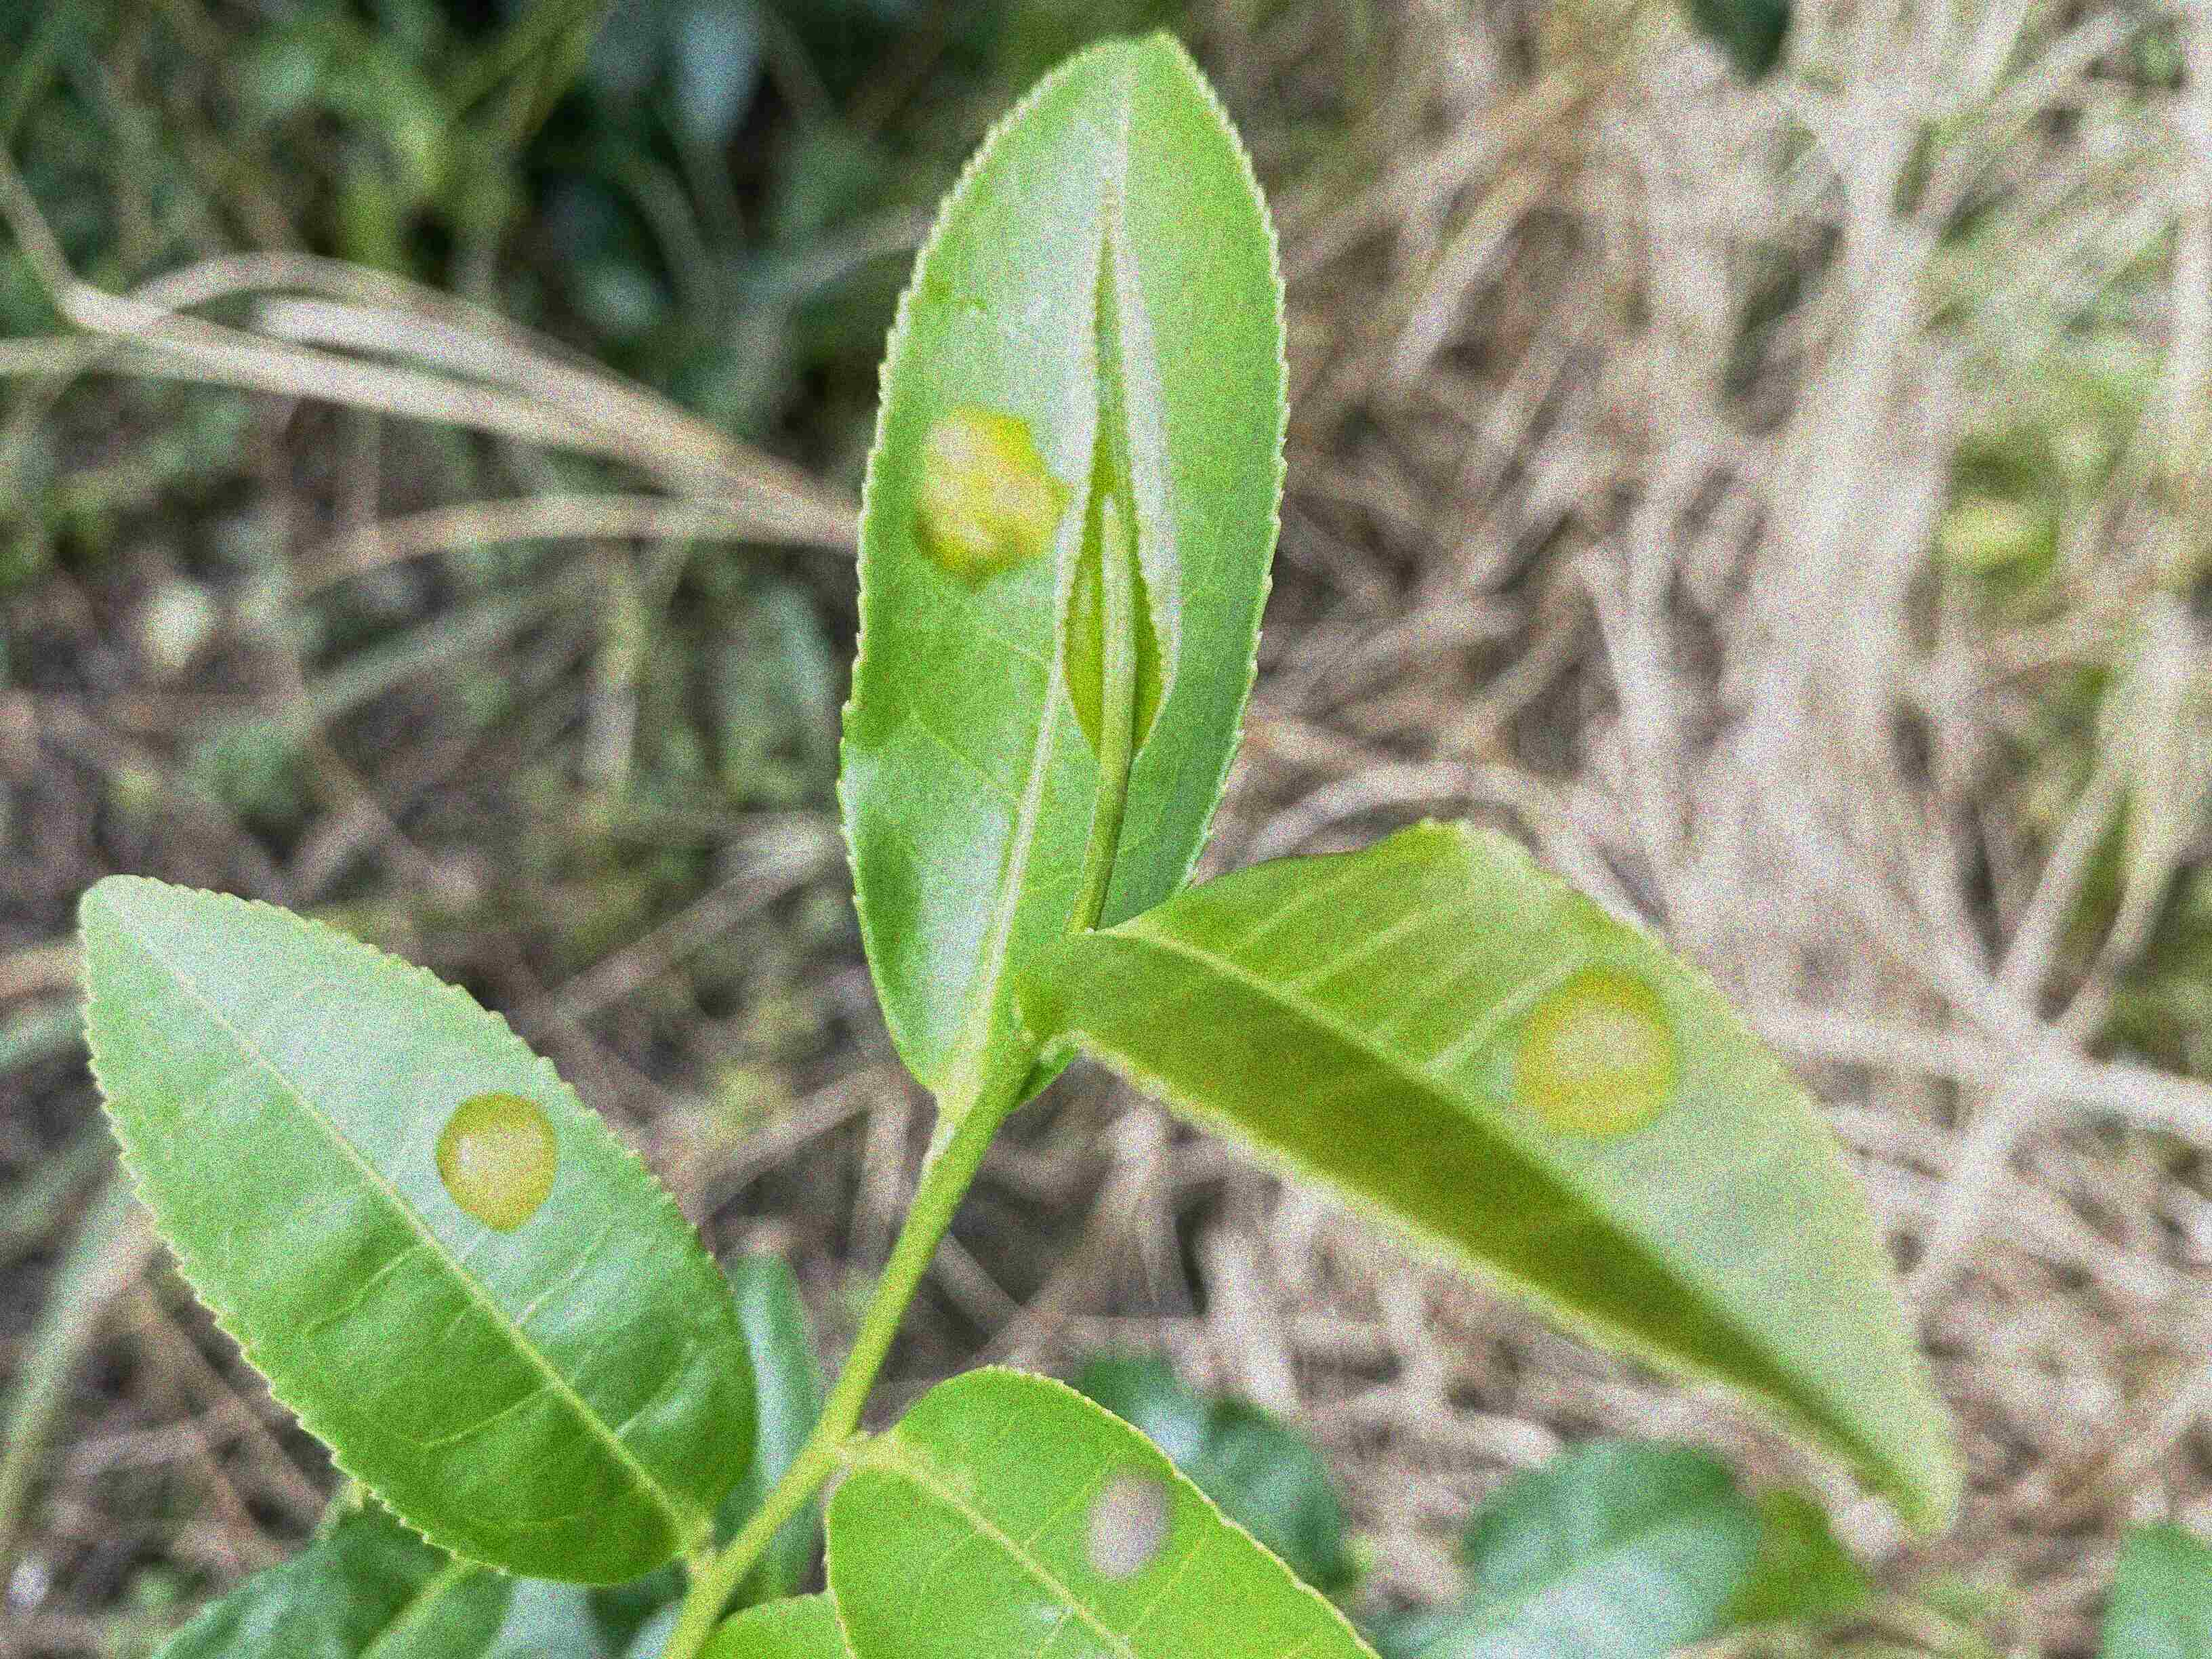chabing_low: (1010, 812, 1949, 1535), (833, 28, 1292, 1115), (75, 875, 761, 1589), (824, 1364, 1379, 1657)
